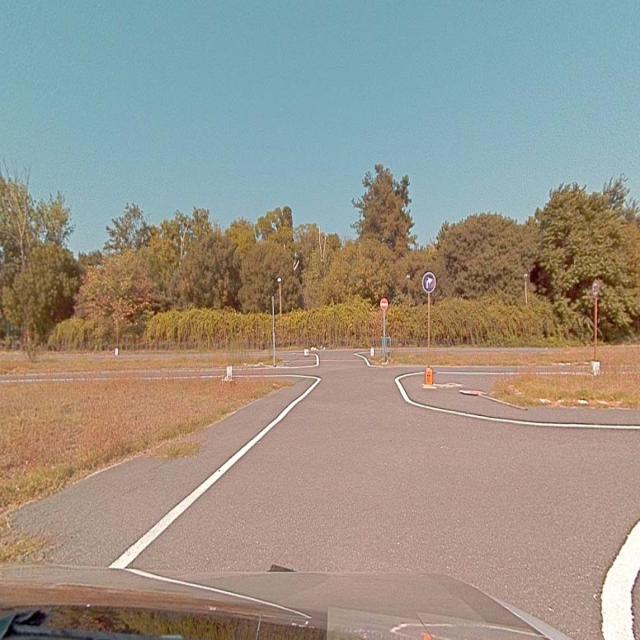girisyok: (381, 298, 388, 311)
sag: (422, 272, 436, 292)
